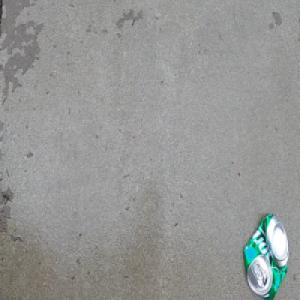SodaCan: (243, 210, 291, 300)
